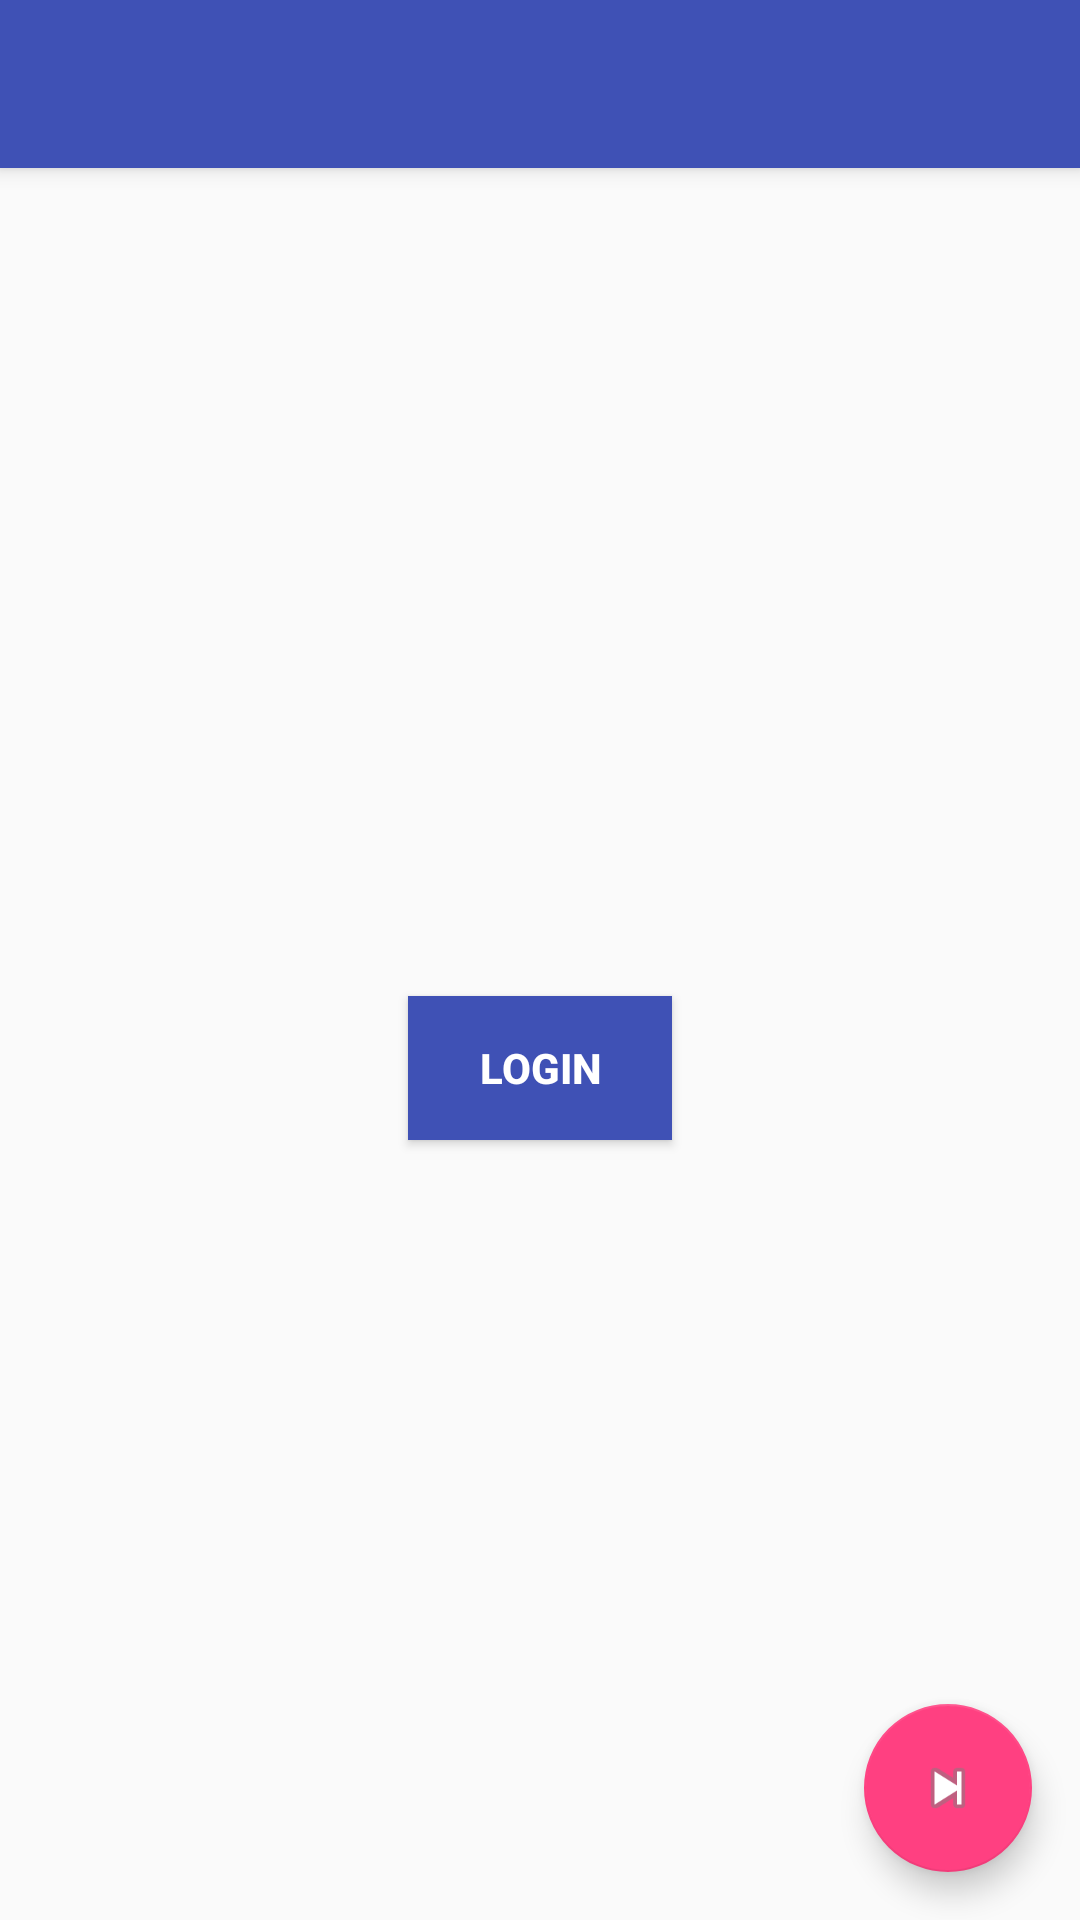

Named icons in this screenshot (1080×1920) and their centers, (x=x, y=y):
next: (x=948, y=1788)
